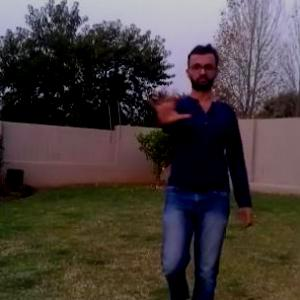follow_hand: (142, 80, 193, 130)
